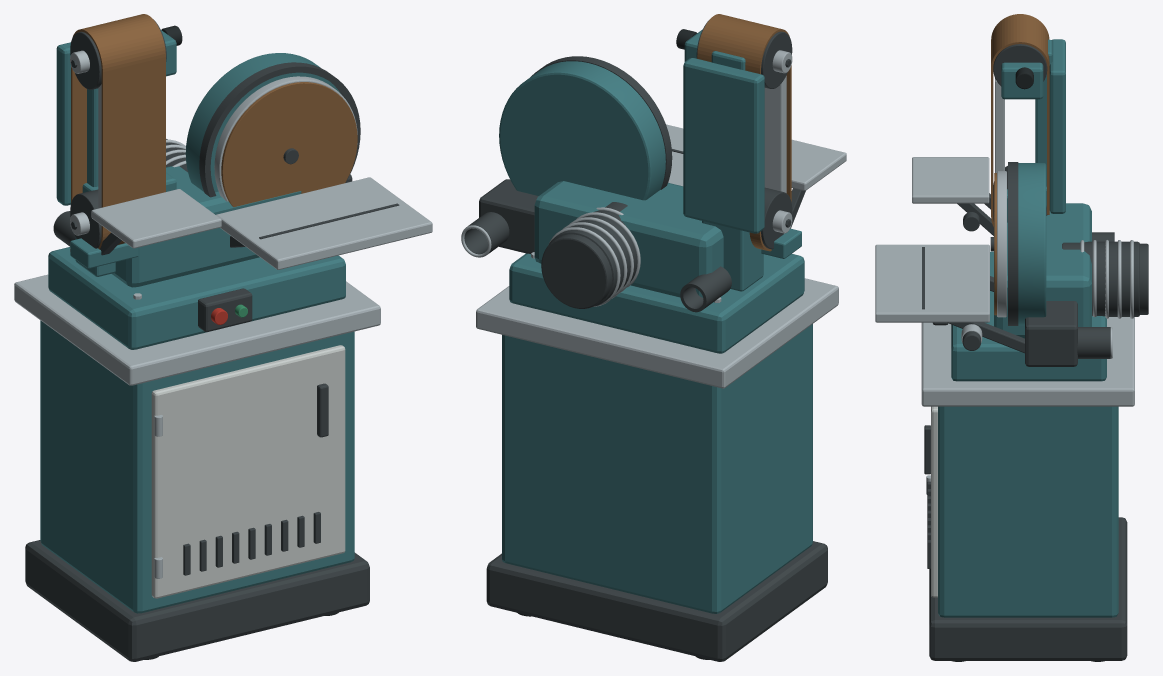
Rendered from city-belt-disc-sander.glb.
The picture shows the model from 3 angles, left to right: view 1: azimuth 30°, elevation 25°; view 2: azimuth 150°, elevation 25°; view 3: azimuth 270°, elevation 25°; orthographic projection. The views are drawn at different scales.
Visible parts, largest first — view 1: Assembly | Deep petrol workshop enamel, Assembly | Pale gray machine enamel, Assembly | Satin machined steel, Assembly | Charcoal cast machine metal, Assembly | Umber abrasive belt and disc; view 2: Assembly | Deep petrol workshop enamel, Assembly | Charcoal cast machine metal, Assembly | Satin machined steel, Assembly | Umber abrasive belt and disc; view 3: Assembly | Deep petrol workshop enamel, Assembly | Satin machined steel, Assembly | Charcoal cast machine metal, Assembly | Umber abrasive belt and disc, Assembly | Pale gray machine enamel.
Part boxes in pixels (box(x1,y1,x2,y2)): Assembly | Deep petrol workshop enamel: box(40, 30, 354, 613); Assembly | Pale gray machine enamel: box(151, 345, 345, 598); Assembly | Satin machined steel: box(14, 50, 432, 578); Assembly | Charcoal cast machine metal: box(25, 19, 399, 661); Assembly | Umber abrasive belt and disc: box(71, 14, 357, 249); Assembly | Deep petrol workshop enamel: box(499, 29, 812, 613); Assembly | Charcoal cast machine metal: box(464, 20, 827, 661); Assembly | Satin machined steel: box(461, 50, 846, 388); Assembly | Umber abrasive belt and disc: box(697, 14, 791, 251); Assembly | Deep petrol workshop enamel: box(938, 39, 1118, 617); Assembly | Satin machined steel: box(875, 78, 1134, 494); Assembly | Charcoal cast machine metal: box(922, 44, 1148, 660); Assembly | Umber abrasive belt and disc: box(991, 14, 1049, 315); Assembly | Pale gray machine enamel: box(931, 406, 937, 597).
Bounding box in the file's own units: 0.7815 × 1.52 × 0.6835.
